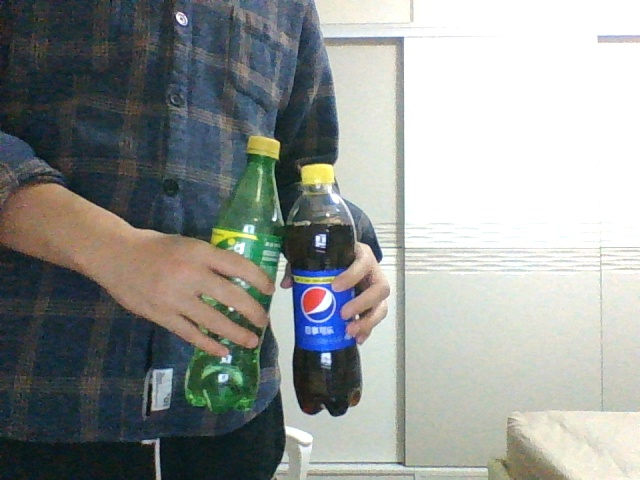Cola: (285, 163, 364, 416)
Sprite: (184, 137, 284, 413)
